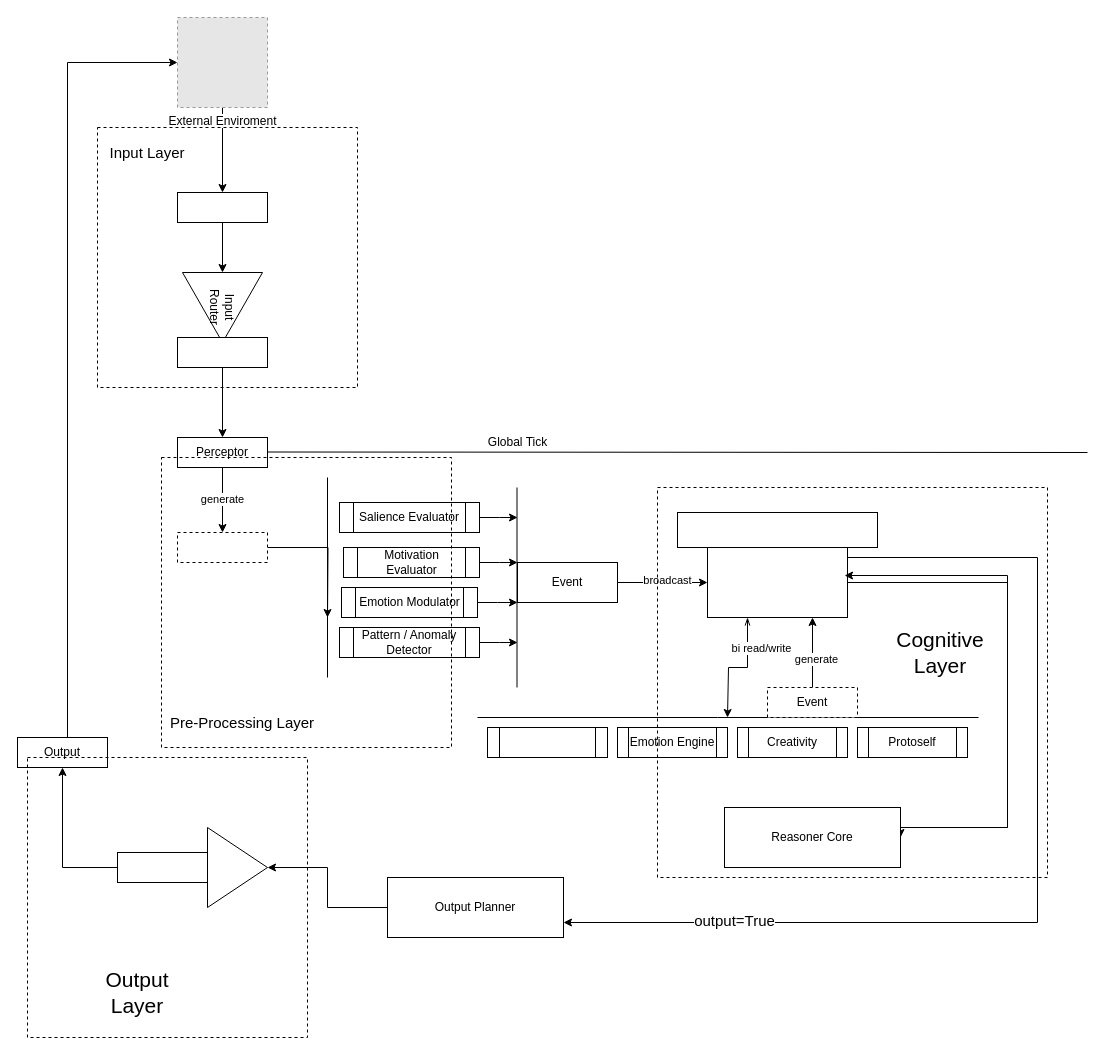
Image size: 1106x1055. Some labels were removed from this diagram. Grey dashed boxes stand in for pictures. The centre of each missing label's shape, as x and y in pixels:
"Global Workspace: Event Queue Conscious Group" belongs at [777,582].
"Input" belongs at [222,207].
"Input Buffer" belongs at [222,352].
"Memory System" belongs at [547,742].
"Meta Controller" belongs at [777,530].
"Output Buffer" belongs at [162,867].
"Output Router" belongs at [237,867].
"RawEvent" belongs at [222,547].
